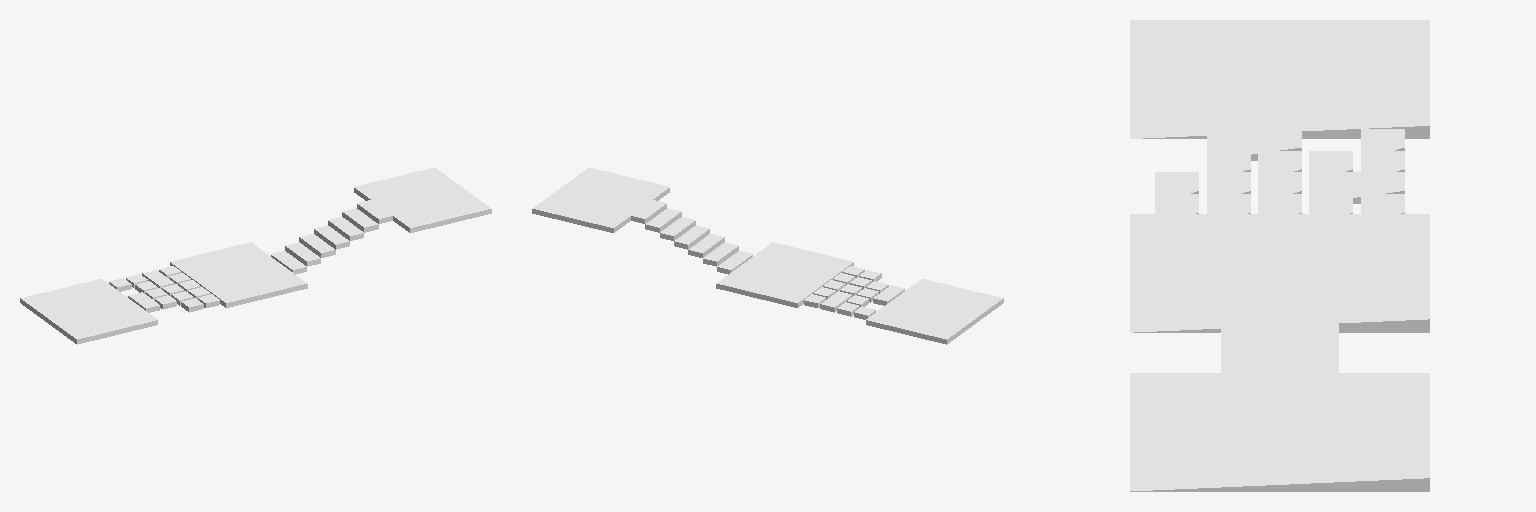
The robot description file, URDF, robot "rubbles_stairs_2":
<robot name="rubbles_stairs_2">
  <link name="base_link">
    <visual>
      <origin xyz="0 0 0" rpy="0 0 0" />
      <geometry>
        <mesh filename="package://hpp_environments/meshes/multicontact/rubbles_stairs_2.stl"/>
      </geometry>
      <material name="white">
        <color rgba="1 1 1 1"/>
      </material>
    </visual>
    <collision>
      <origin xyz="0 0 0" rpy="0 0 0" />
      <geometry>
        <mesh filename="package://hpp_environments/meshes/multicontact/rubbles_stairs_2.stl"/>
      </geometry>
    </collision>
  </link>
</robot>

--- What the picture shows (computed from the rendered views, not written in the file) ---
Views: 3 orthographic renders of the robot side by side, from view 1: azimuth 30°, elevation 25°; view 2: azimuth 150°, elevation 25°; view 3: azimuth 270°, elevation 25°.
Robot: rubbles_stairs_2 — 1 links, 0 joints (none); root link base_link; default pose: every joint at zero.
Visible links, largest first — view 1: base_link; view 2: base_link; view 3: base_link.
Boxes of the visible links, left/top/right/bottom form: base_link: left=20, top=167, right=491, bottom=344; base_link: left=532, top=167, right=1003, bottom=344; base_link: left=1130, top=20, right=1429, bottom=491.
Bounding box of the posed robot: 8.68 × 2.05 × 0.7 m (x, y, z).
Meshes: 1 distinct files referenced, 1 mesh visuals loaded (1 binary STL).